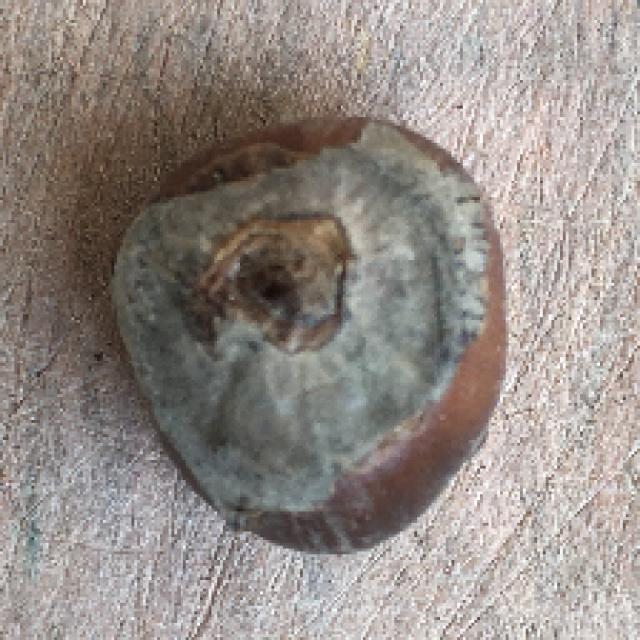damagedHazelnut: (101, 106, 518, 561)
